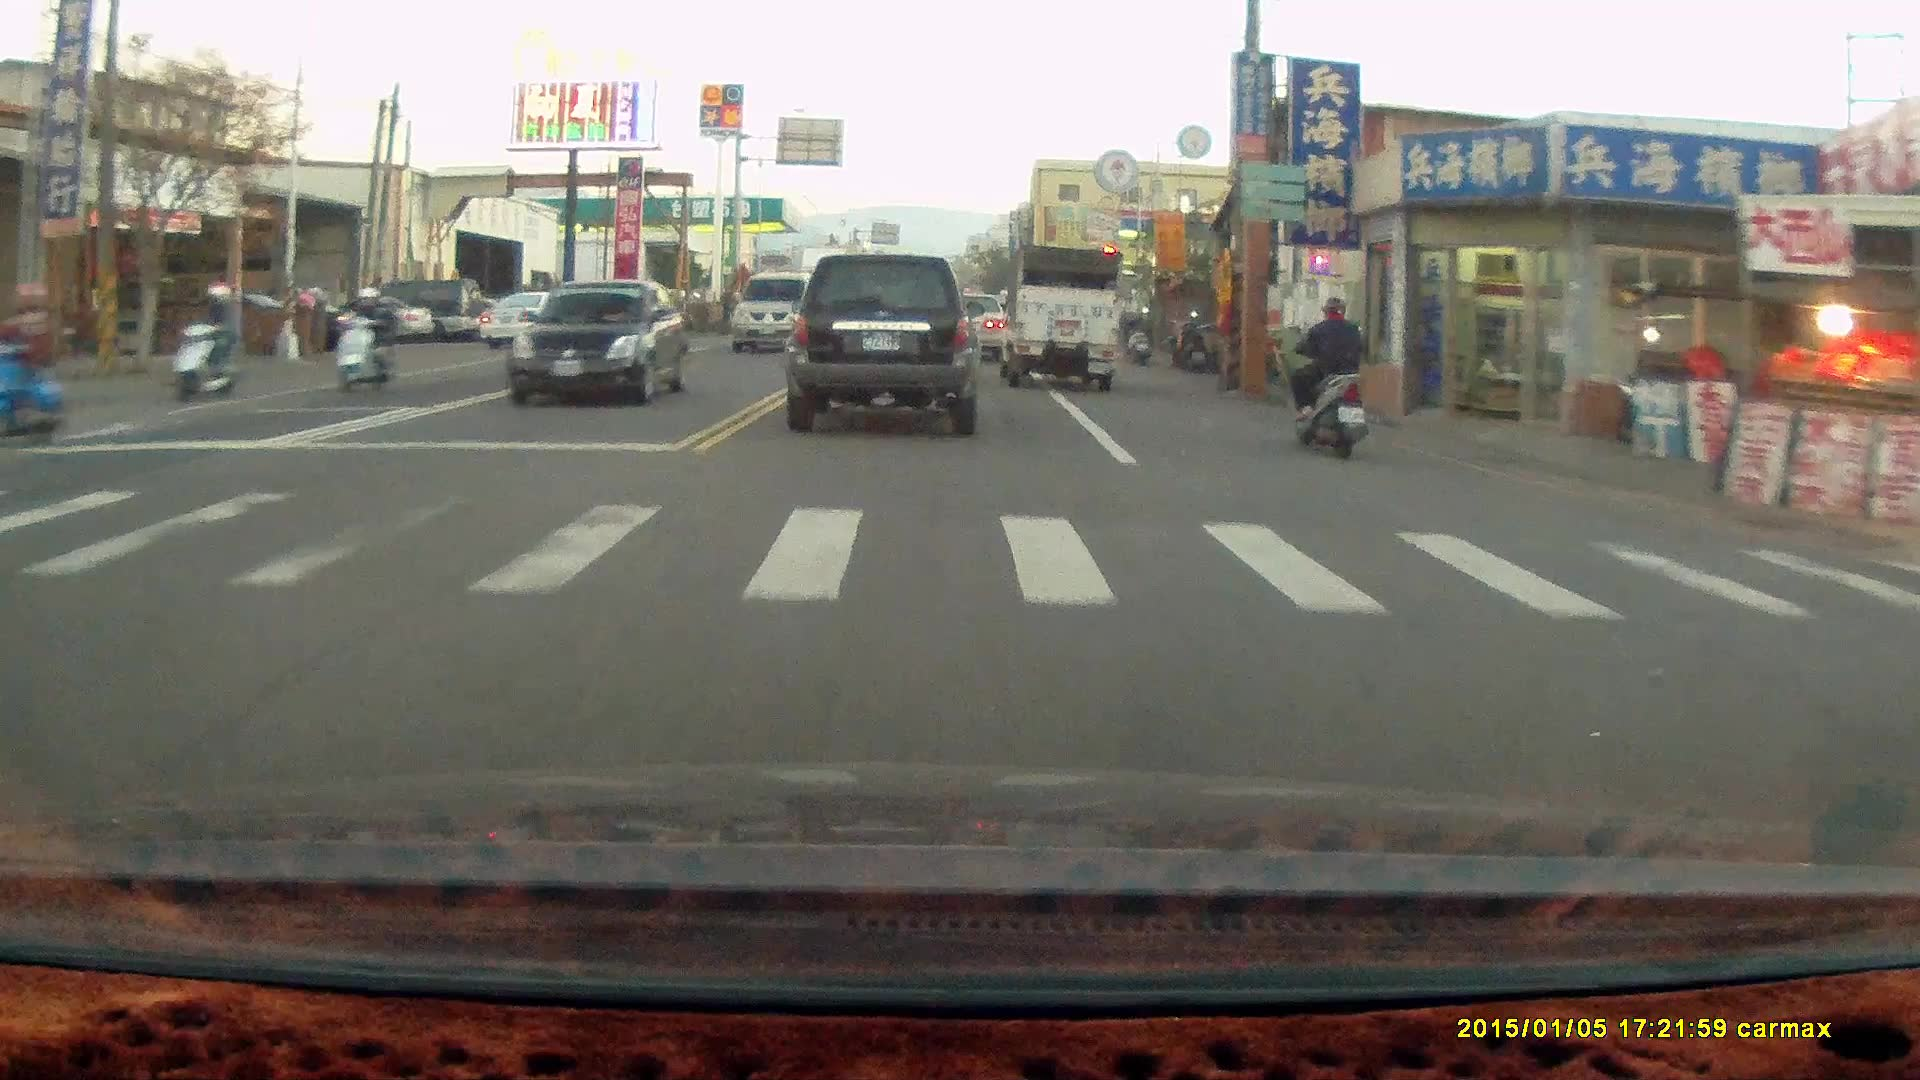rider: (1278, 280, 1370, 446), (0, 277, 72, 446), (167, 276, 243, 400), (329, 283, 399, 392)
vehicle: (783, 254, 984, 435), (510, 279, 692, 406), (995, 243, 1121, 392), (728, 269, 822, 353), (488, 290, 600, 351), (936, 291, 1008, 364)
